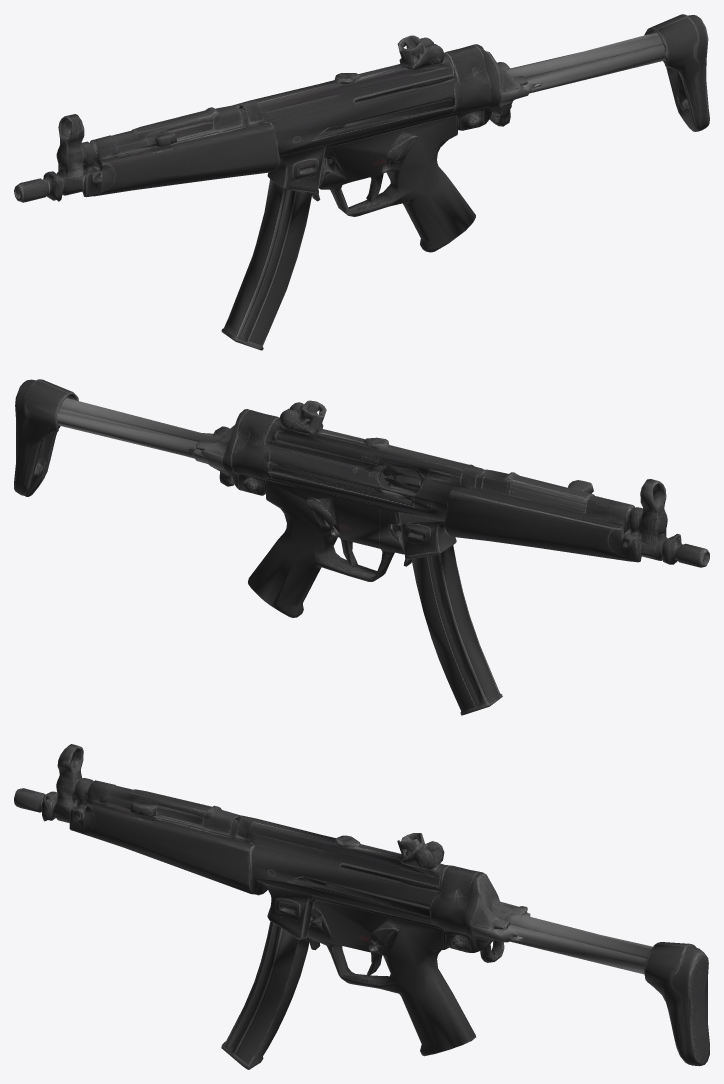
File: wpn_smg.glb
3 renders of one model, top to bottom at view 1: azimuth 30°, elevation 25°; view 2: azimuth 150°, elevation 25°; view 3: azimuth 330°, elevation 25°, orthographic.
Parts seen in each view (by area): view 1: Mesh_0; view 2: Mesh_0; view 3: Mesh_0.
Part boxes in pixels (<box>): Mesh_0: <box>14,14,709,350</box>; Mesh_0: <box>14,379,709,715</box>; Mesh_0: <box>14,744,709,1069</box>.
Bounding box in the file's own units: 1.9 × 0.7236 × 0.1486.
Materials: 1 (1 with a texture image).
